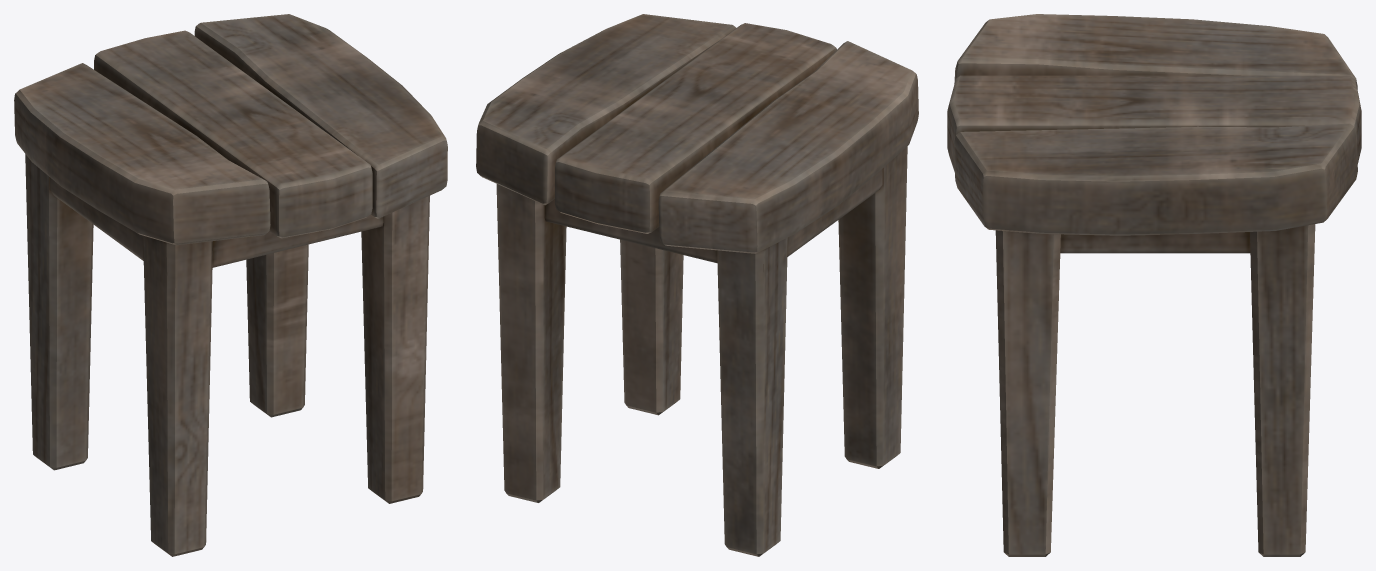
The model's file is SM_chair_02.fbx.
3 renders of one model, left to right at view 1: azimuth 30°, elevation 25°; view 2: azimuth 150°, elevation 25°; view 3: azimuth 270°, elevation 25°, orthographic. The views are drawn at different scales.
Visible parts, largest first — view 1: SM_chair_02_LOD0; view 2: SM_chair_02_LOD0; view 3: SM_chair_02_LOD0.
Boxes of the visible parts, x1,y1,x2,y2 form: SM_chair_02_LOD0: [14, 14, 447, 556]; SM_chair_02_LOD0: [476, 14, 918, 556]; SM_chair_02_LOD0: [947, 14, 1361, 556].
Size of the model in its own units: 57.61 by 61.38 by 66.33.
1 material, 1 textured.
